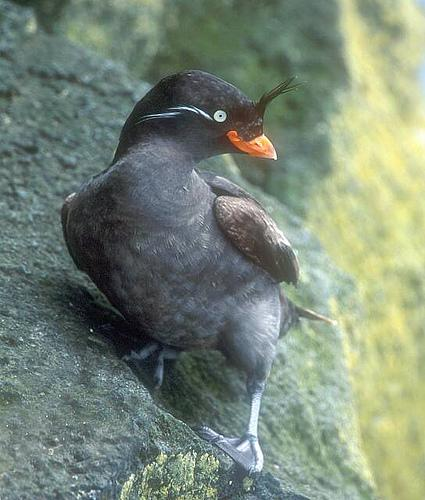005.Crested_Auklet: (62, 68, 301, 479)
